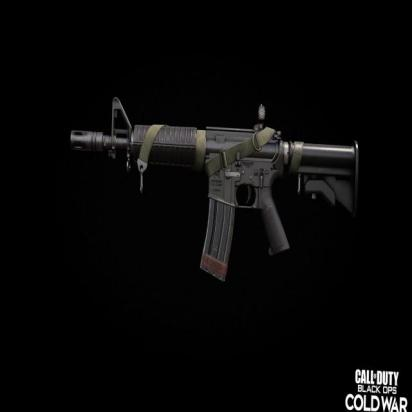Gun: (66, 97, 360, 290)
